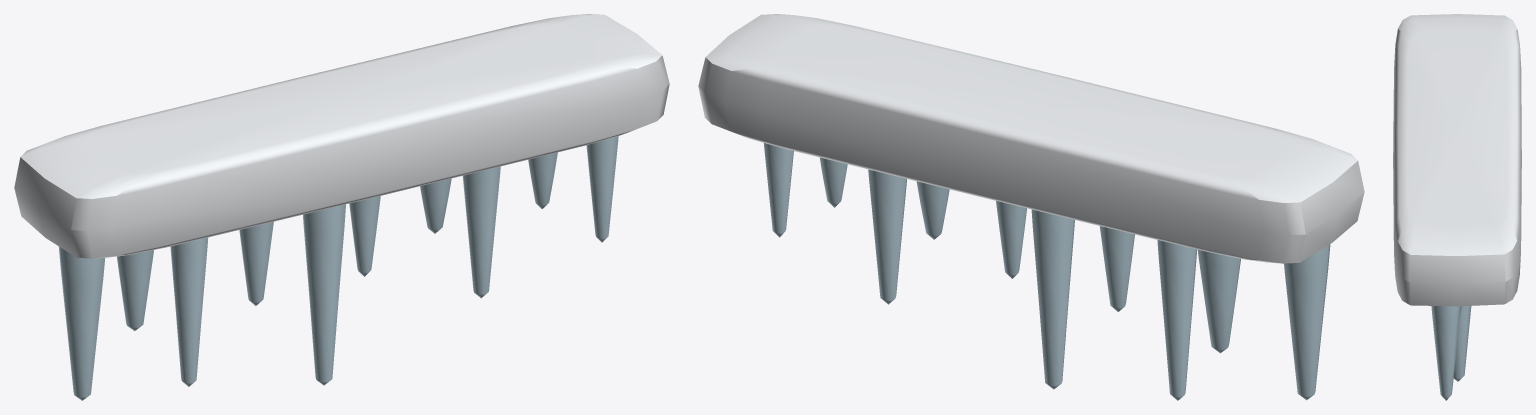
Rendered from IcicleLedge.glb.
3 views of the same model, side by side, from view 1: azimuth 30°, elevation 25°; view 2: azimuth 150°, elevation 25°; view 3: azimuth 270°, elevation 25° (orthographic). The views are drawn at different scales.
Parts seen in each view (by area): view 1: IcicleLedge; view 2: IcicleLedge; view 3: IcicleLedge.
Boxes of the visible parts, left/top/right/bottom form: IcicleLedge: left=14, top=14, right=669, bottom=400; IcicleLedge: left=698, top=14, right=1364, bottom=400; IcicleLedge: left=1393, top=14, right=1521, bottom=400.
Bounding box in the file's own units: 10.01 × 4.44 × 2.2.
Materials: 1 (1 with a texture image).
